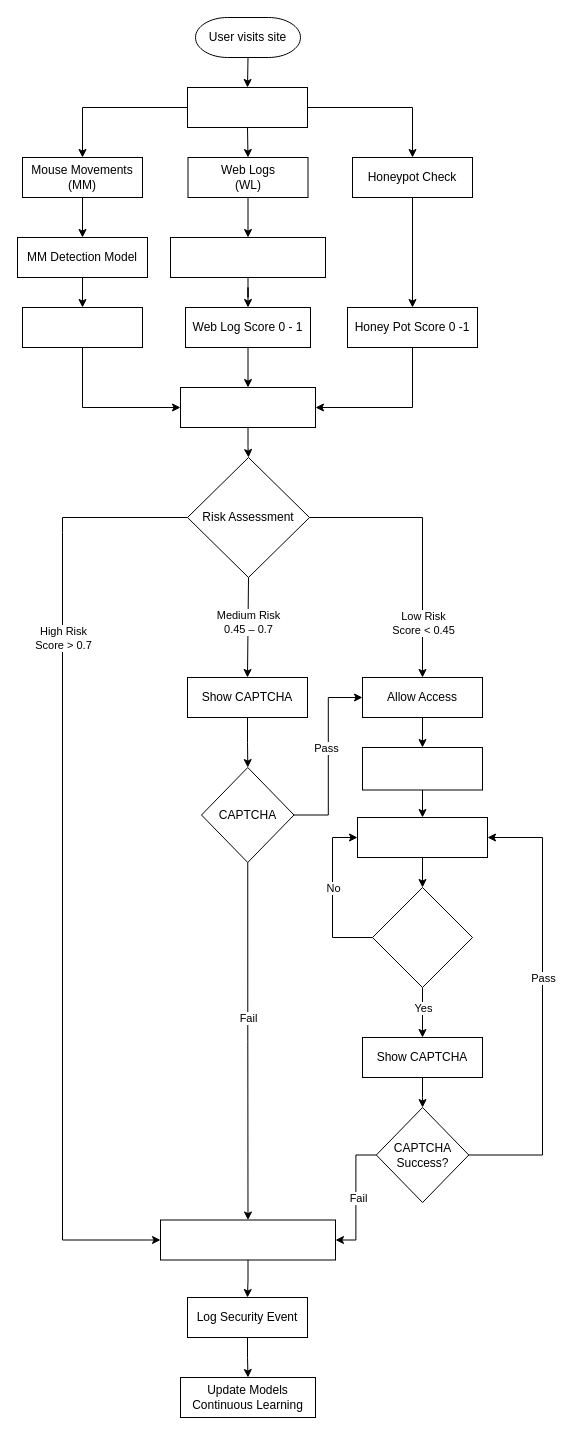
Some shapes in this 572 by 1435 pixel diagram are drawn without their labels. Here are the shapes that lost their labels. From the top down, the box of each, then its label:
(186, 86, 308, 128): Track User Behavior
(170, 236, 326, 278): WL Detection Model
(22, 306, 142, 348): Mouse Score 0 - 1
(180, 386, 316, 428): Score Fusion Adaptive Weighting
(362, 746, 482, 790): Dashboard Access
(356, 816, 488, 858): Monitor Session Ongoing Analysis
(372, 886, 472, 988): Suspicious Behavior?
(160, 1219, 336, 1260): Block + Advanced CAPTCHA
